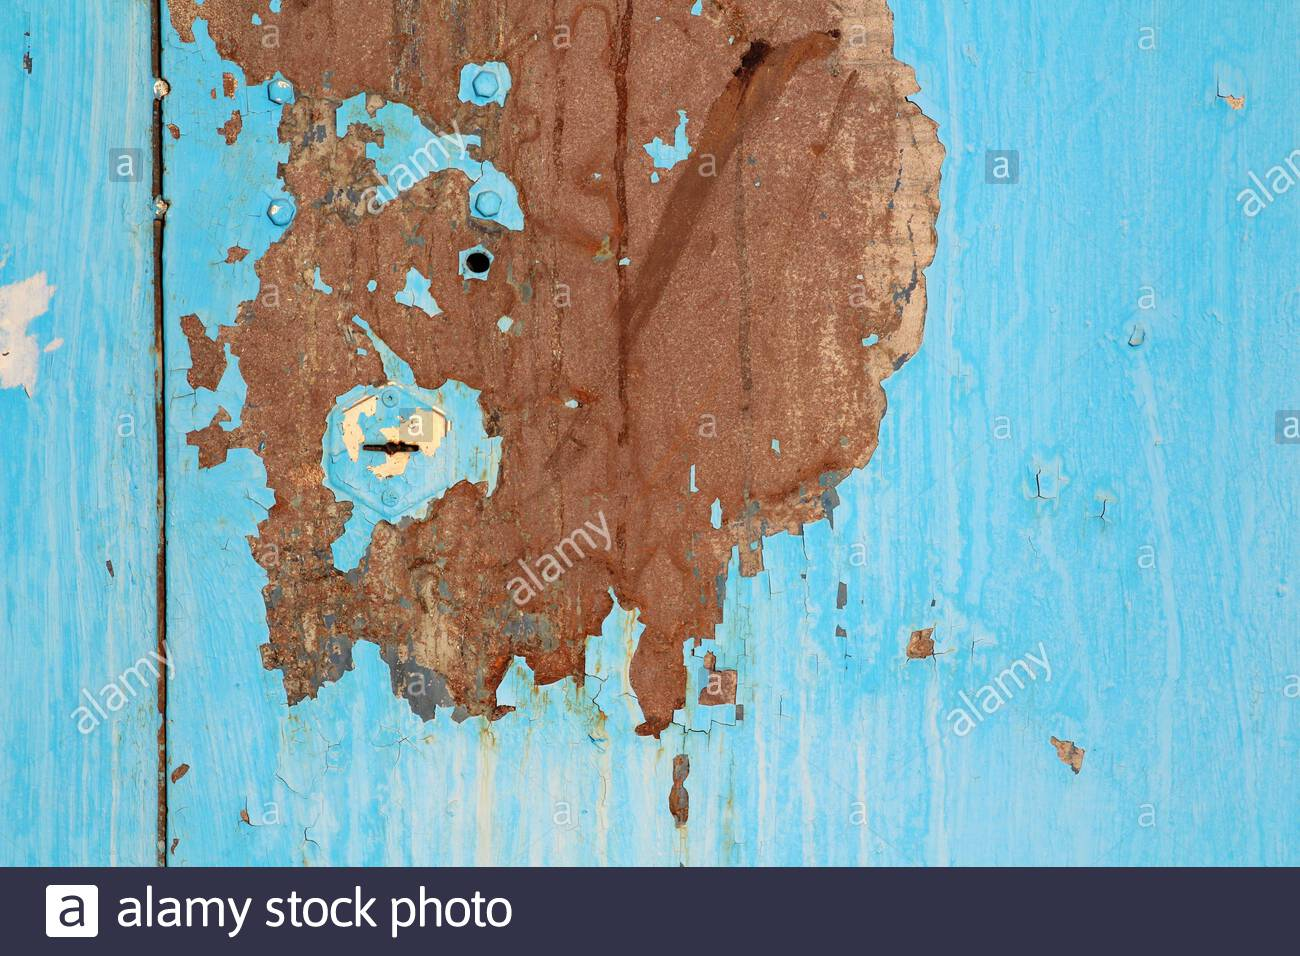rust: (170, 1, 944, 737), (1052, 735, 1090, 779), (672, 753, 690, 827)
